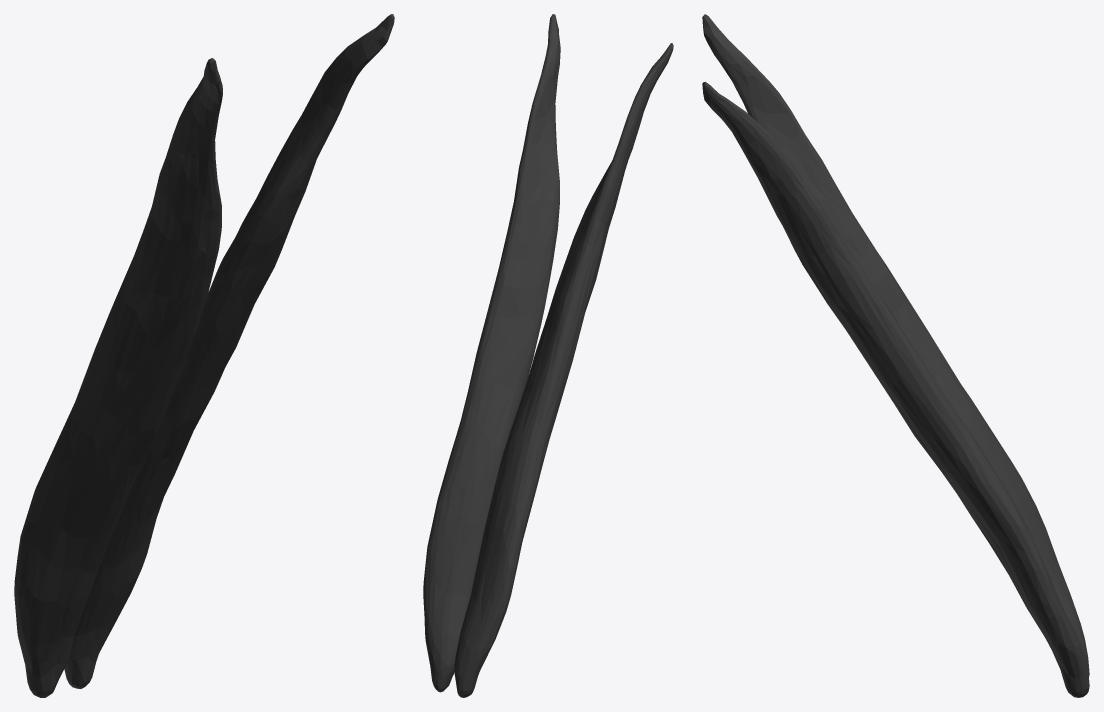
The model's file is m_sternocephalicus.glb.
3 renders of one model, left to right at view 1: azimuth 30°, elevation 25°; view 2: azimuth 150°, elevation 25°; view 3: azimuth 270°, elevation 25°, orthographic. The views are drawn at different scales.
Parts seen in each view (by area): view 1: m_sternocephalicus; view 2: m_sternocephalicus; view 3: m_sternocephalicus.
Boxes of the visible parts, <box> form: m_sternocephalicus: <box>14,14,394,697</box>; m_sternocephalicus: <box>423,14,673,697</box>; m_sternocephalicus: <box>702,14,1089,697</box>.
Size of the model in its own units: 0.00234 by 0.01 by 0.00547.
Materials: 1 (1 with a texture image).
